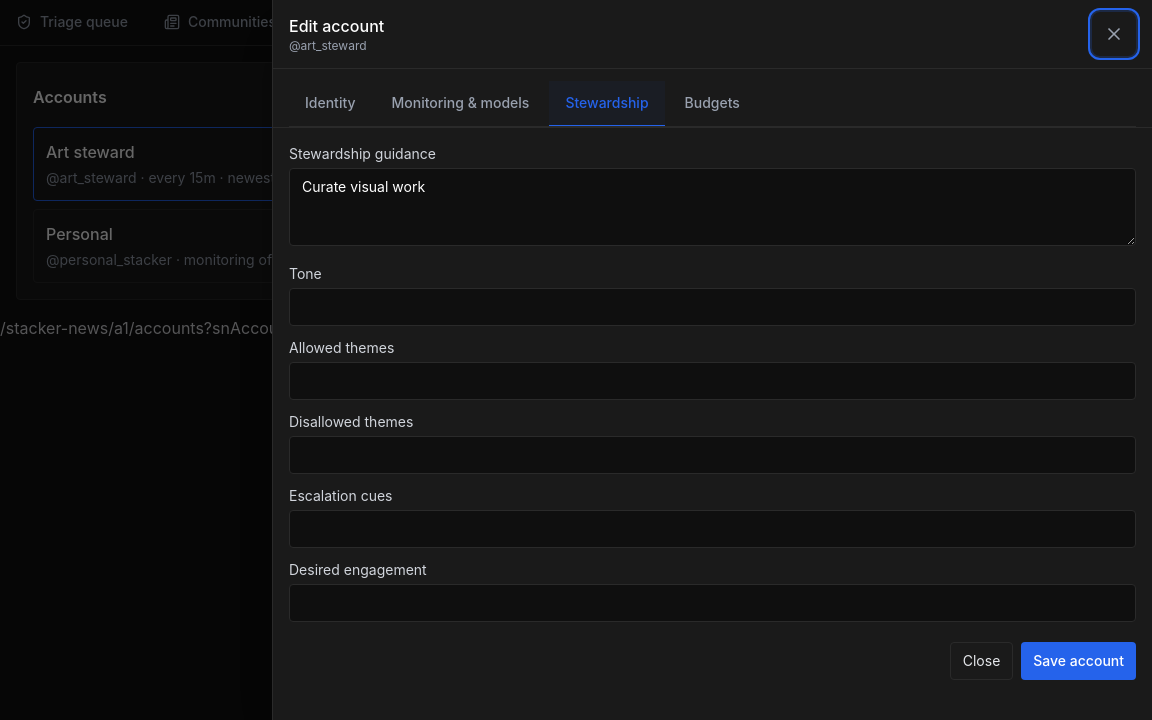
Test: StackerNews › keeps entered account values across drawer tab switches and deep-links the open tab
In the field labelled "Tone": (712, 307) [289, 288, 1136, 326], type "measured"
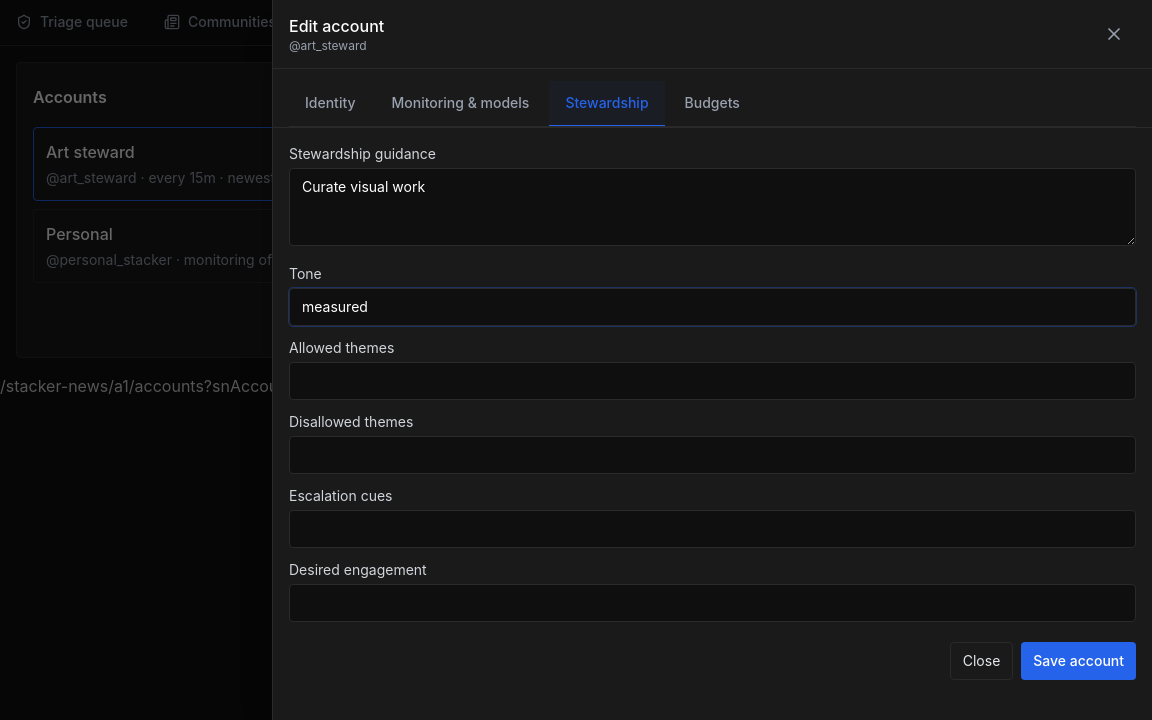
Click the tab "Budgets": (712, 104) [668, 81, 756, 127]
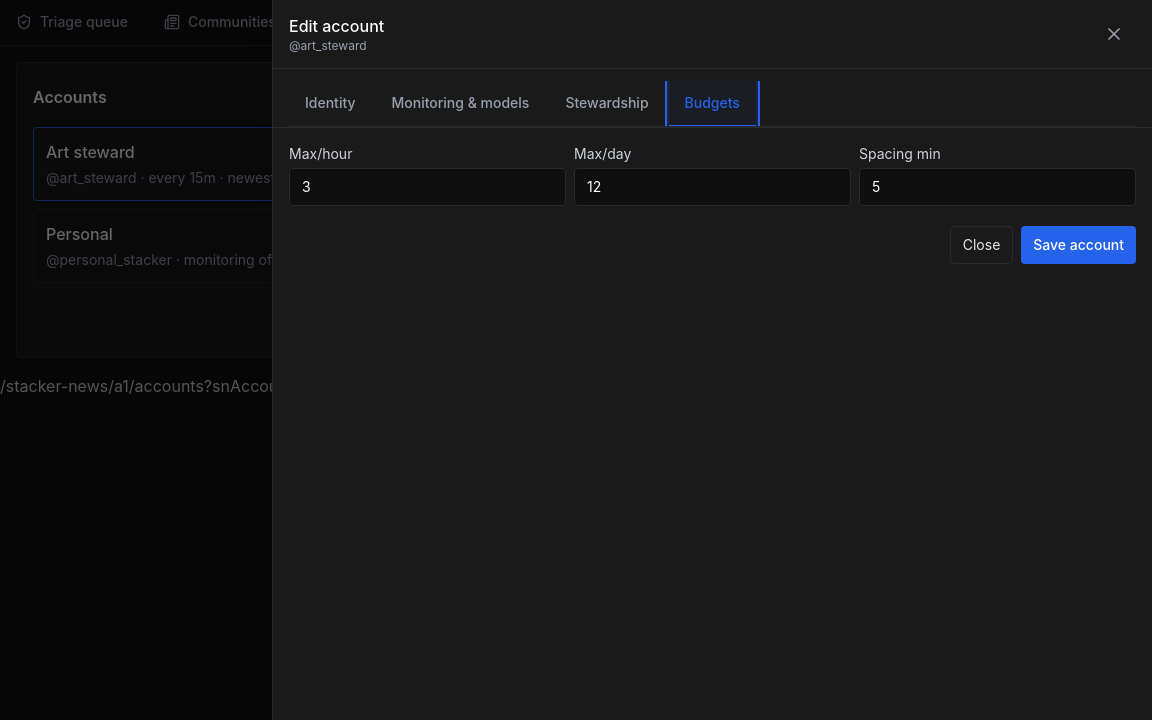
Expected: the text with test id "location" shows "snAccountTab=budgets", [0, 376, 523, 396]
Result: the number field labelled "Max/hour" is shown at [289, 168, 566, 206]
Click the tab "Stewardship": (607, 104) [549, 81, 665, 127]
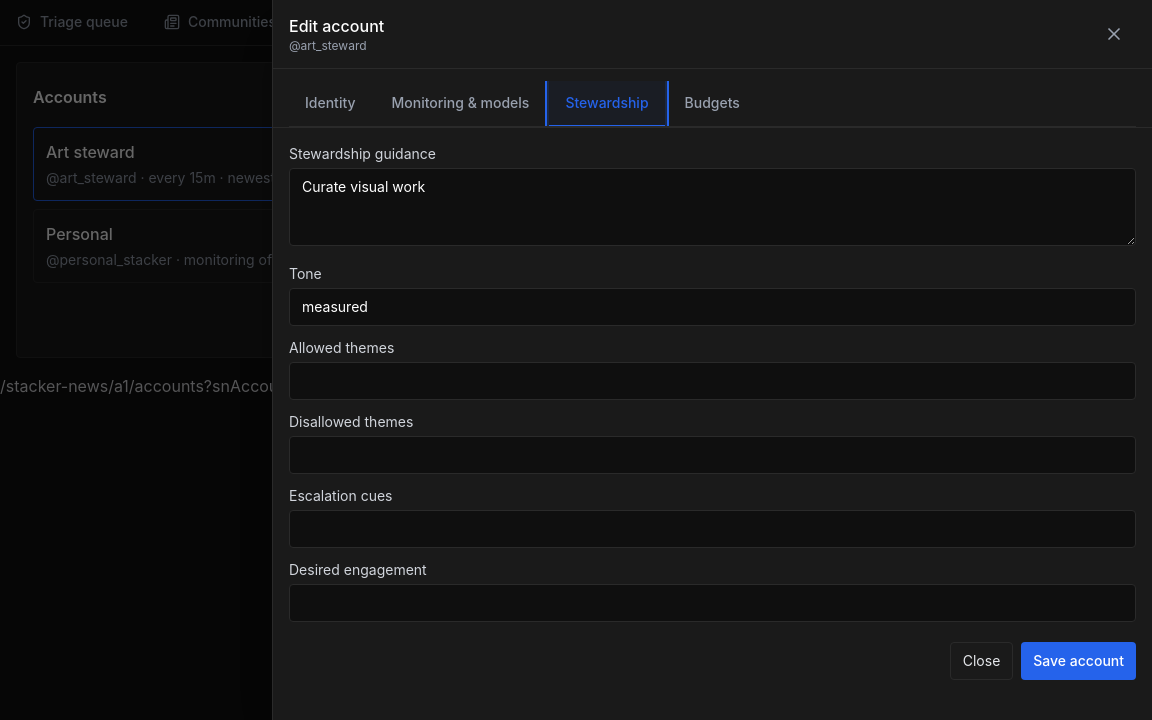
Result: the field labelled "Tone" holds "measured" at [289, 288, 1136, 326]
